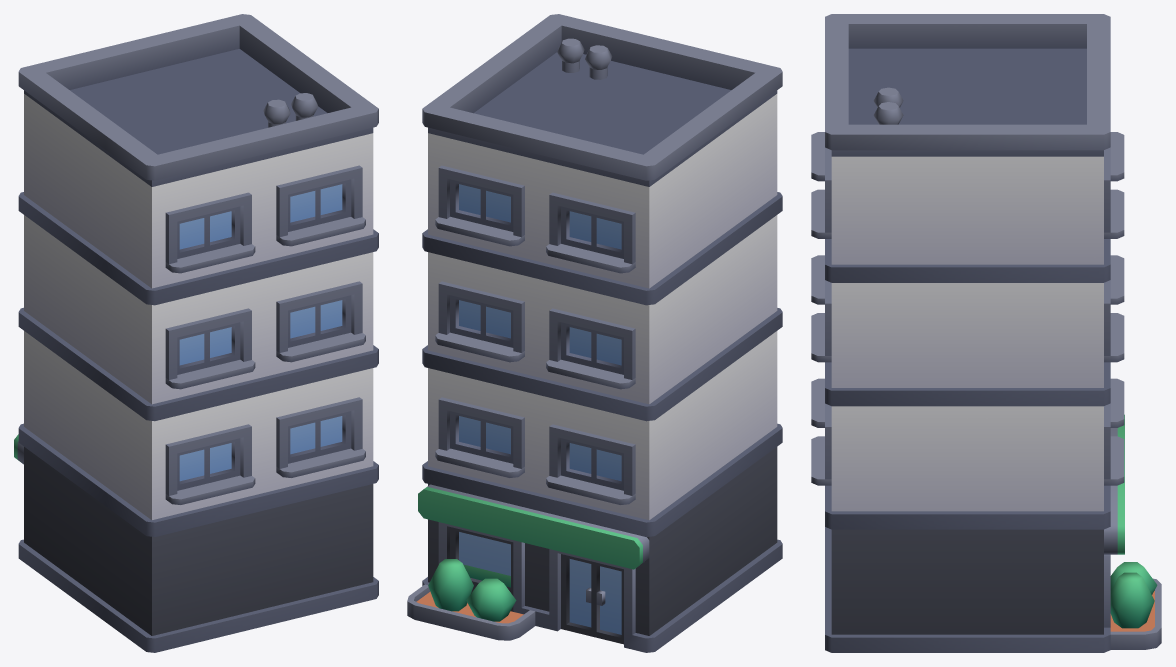
File: building-f.glb
3 renders of one model, left to right at view 1: azimuth 30°, elevation 25°; view 2: azimuth 150°, elevation 25°; view 3: azimuth 270°, elevation 25°, orthographic. The views are drawn at different scales.
Parts seen in each view (by area): view 1: building-f; view 2: building-f; view 3: building-f.
Boxes of the visible parts, bbox=[...] form: building-f: bbox=[14, 14, 378, 652]; building-f: bbox=[407, 14, 782, 652]; building-f: bbox=[811, 14, 1161, 652].
Bounding box in the file's own units: 0.84 × 1.69 × 1.03.
1 material, 1 textured.
